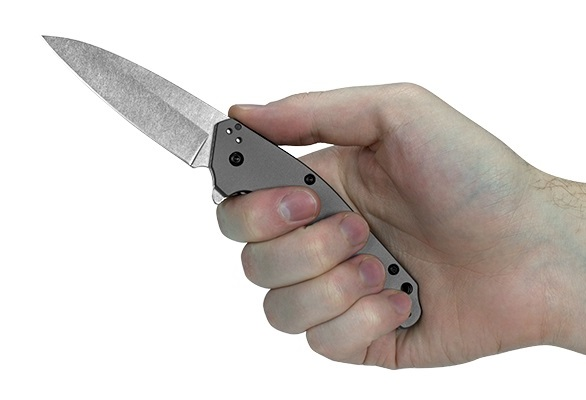knife: (36, 31, 429, 335)
